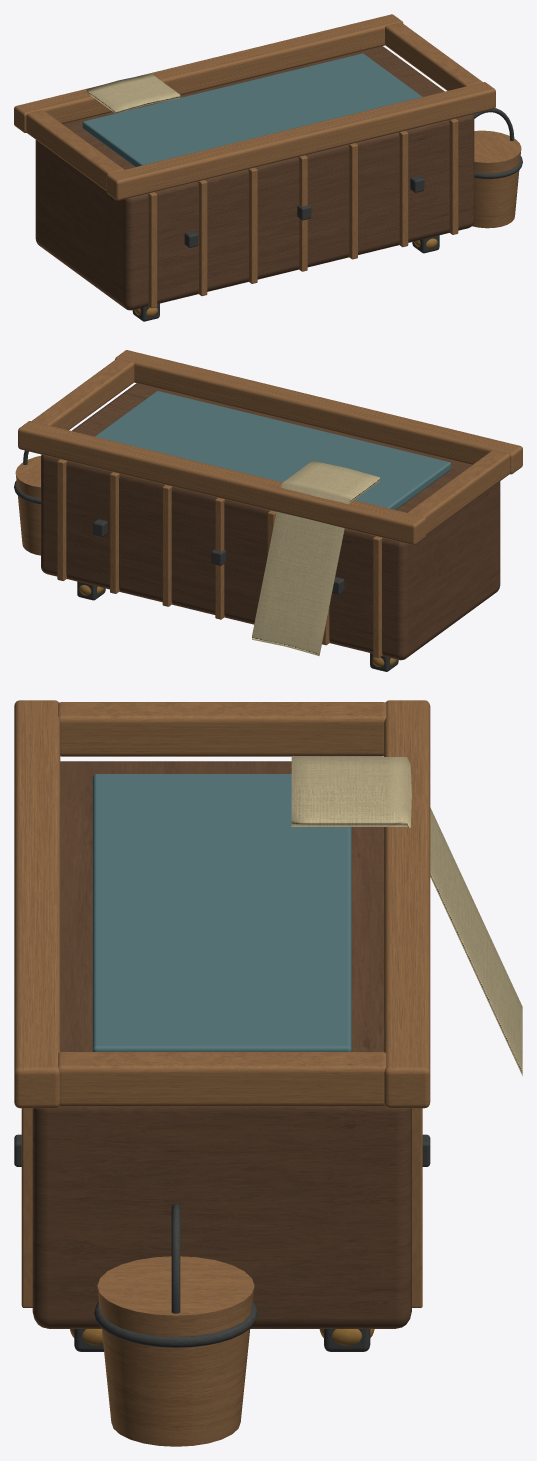
File: bathtub.glb
3 views of the same model, one above another, from view 1: azimuth 30°, elevation 25°; view 2: azimuth 150°, elevation 25°; view 3: azimuth 270°, elevation 25° (orthographic). The views are drawn at different scales.
Visible parts, largest first — view 1: bathtub; view 2: bathtub; view 3: bathtub.
Part boxes in pixels (box(x1,y1,x2,y2)): bathtub: box(14, 14, 522, 321); bathtub: box(14, 350, 522, 671); bathtub: box(14, 700, 522, 1446).
Bounding box in the file's own units: 2.2 × 0.8 × 1.1.
1 material, 1 textured.
